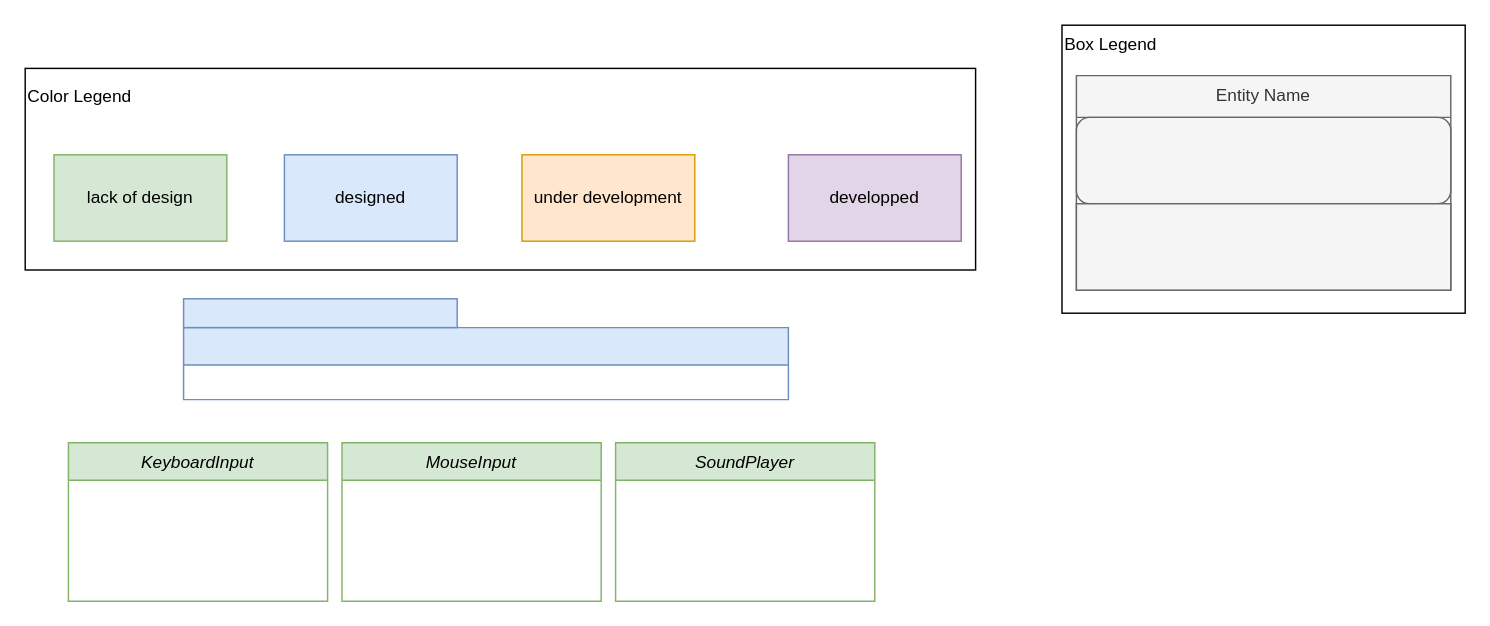
The diagram is 1490 pixels wide and 626 high, and some of its shapes have lost their labels. The shapes that lost their labels are listed below. From the top down, each one's centre as x and y in pixels, then its label:
(x=1263, y=160): Liste des attributs
(x=1263, y=246): Liste des fonctions attendues
(x=319, y=312): class parent communes à tous
(x=485, y=363): IService
